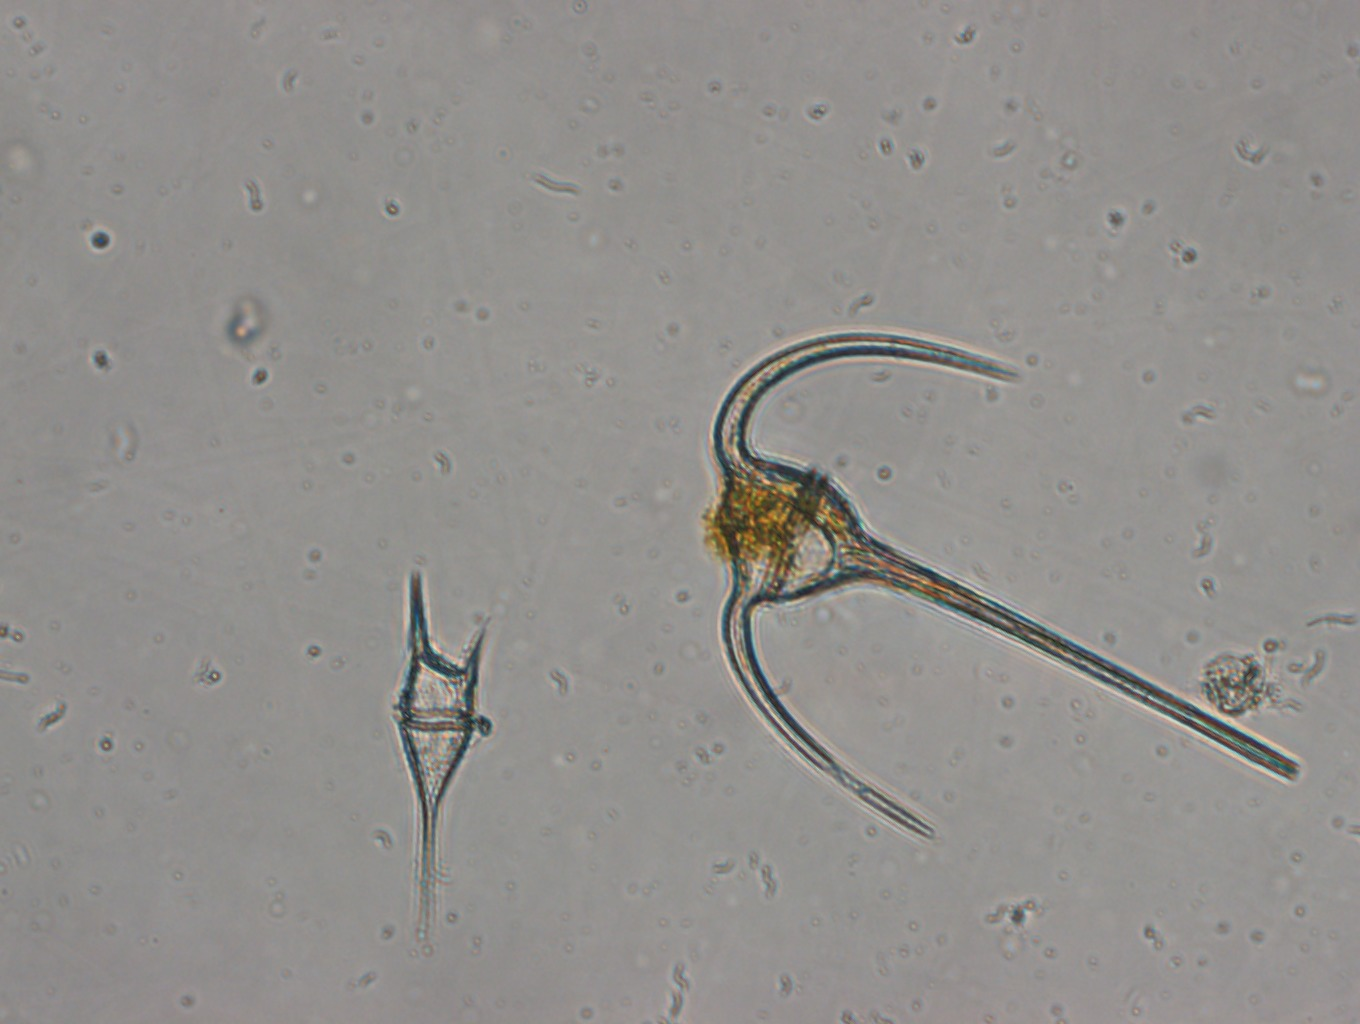ceratium furca: (393, 565, 499, 952)
ceratium trichoceros: (695, 302, 1308, 849)
